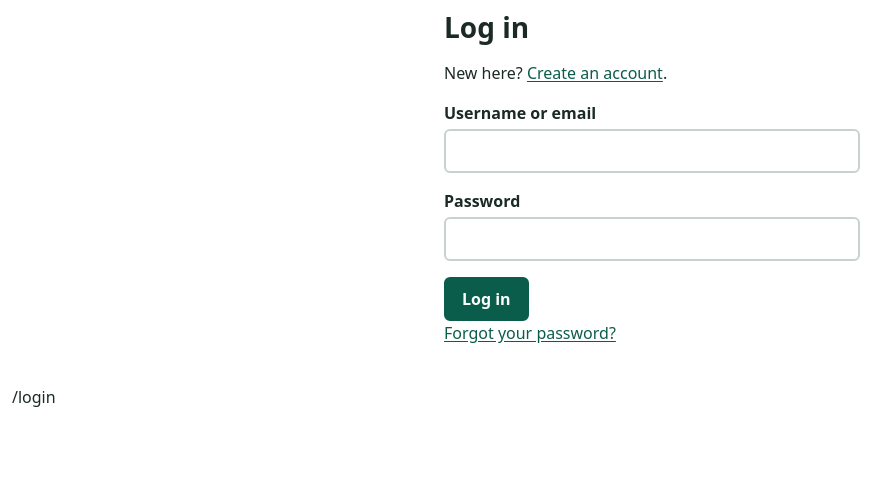
Test: Login page › shows the answer of the server in an alert, keeps the username and clears the password
In the field labelled "Username or email": (652, 151) [444, 129, 860, 173], type "ronel"
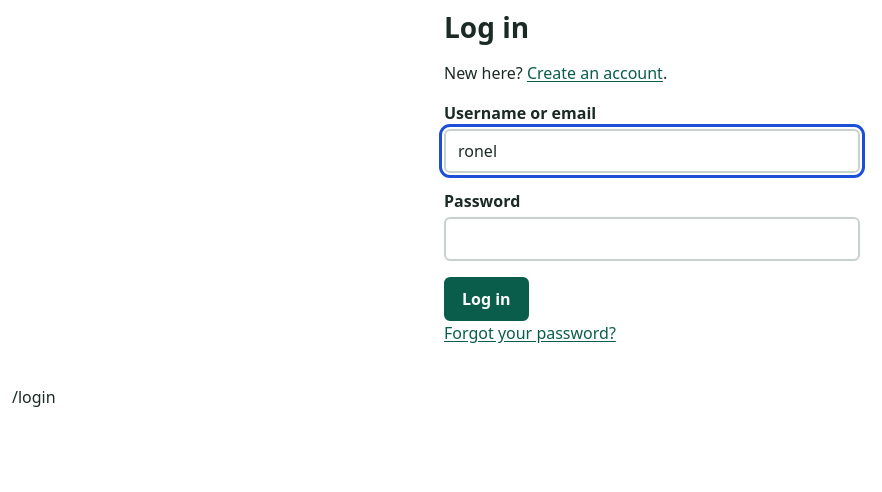
In the password field labelled "Password": (652, 239) [444, 217, 860, 261], type "wrong-pw"
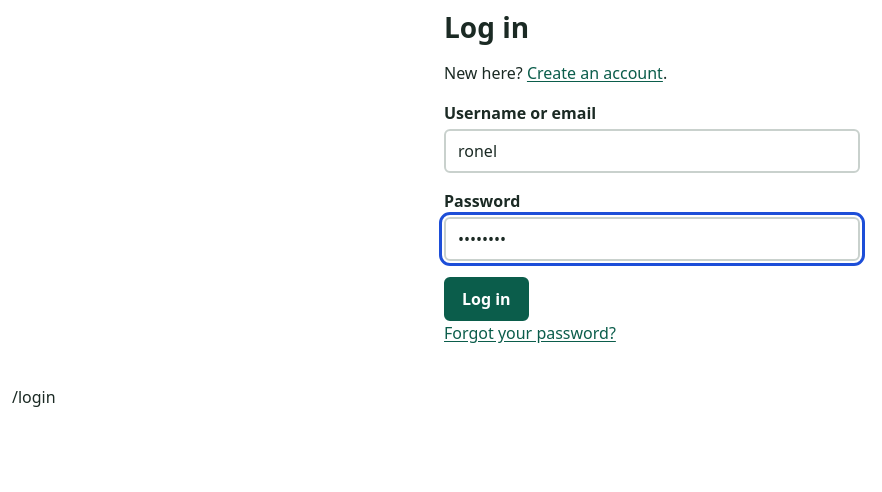
Click the button "Log in": (486, 299) [444, 277, 529, 321]
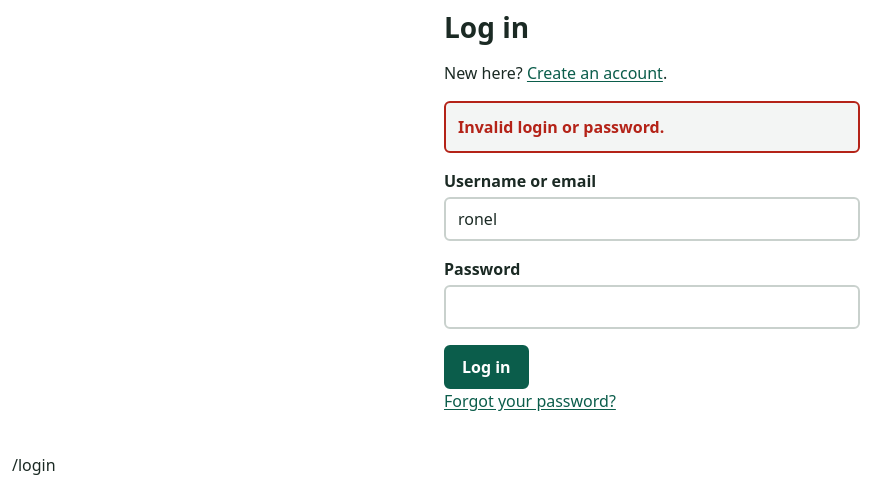
Expected: the button "Log in" is enabled, [444, 345, 529, 389]
Expected: the message reads "Invalid login or password.", [458, 116, 664, 138]
Expected: the password field labelled "Password" is empty, [444, 285, 860, 329]
